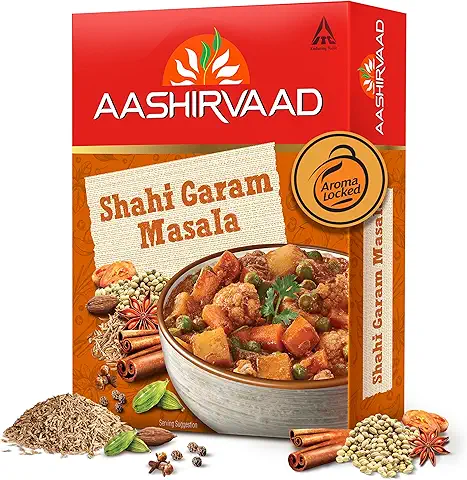Garamasala: (6, 10, 463, 480)
